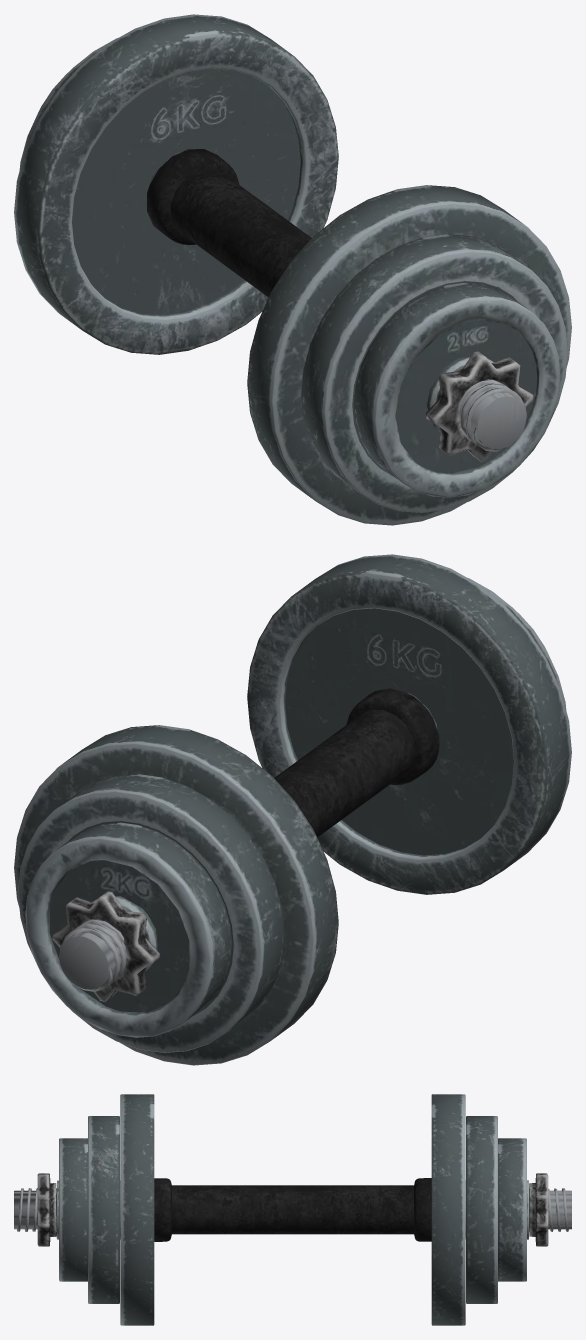
File: dumbbells-transformed.glb
The picture shows the model from 3 angles, top to bottom: view 1: azimuth 30°, elevation 25°; view 2: azimuth 150°, elevation 25°; view 3: azimuth 270°, elevation 25°; orthographic projection. The views are drawn at different scales.
Parts seen in each view (by area): view 1: dumbbells; view 2: dumbbells; view 3: dumbbells.
Part boxes in pixels (x1,y1,x2,y2): dumbbells: (14, 14, 571, 525); dumbbells: (14, 554, 571, 1065); dumbbells: (14, 1094, 571, 1325).
Size of the model in its own units: 329 by 329 by 794.
Materials: 1 (1 with a texture image).
